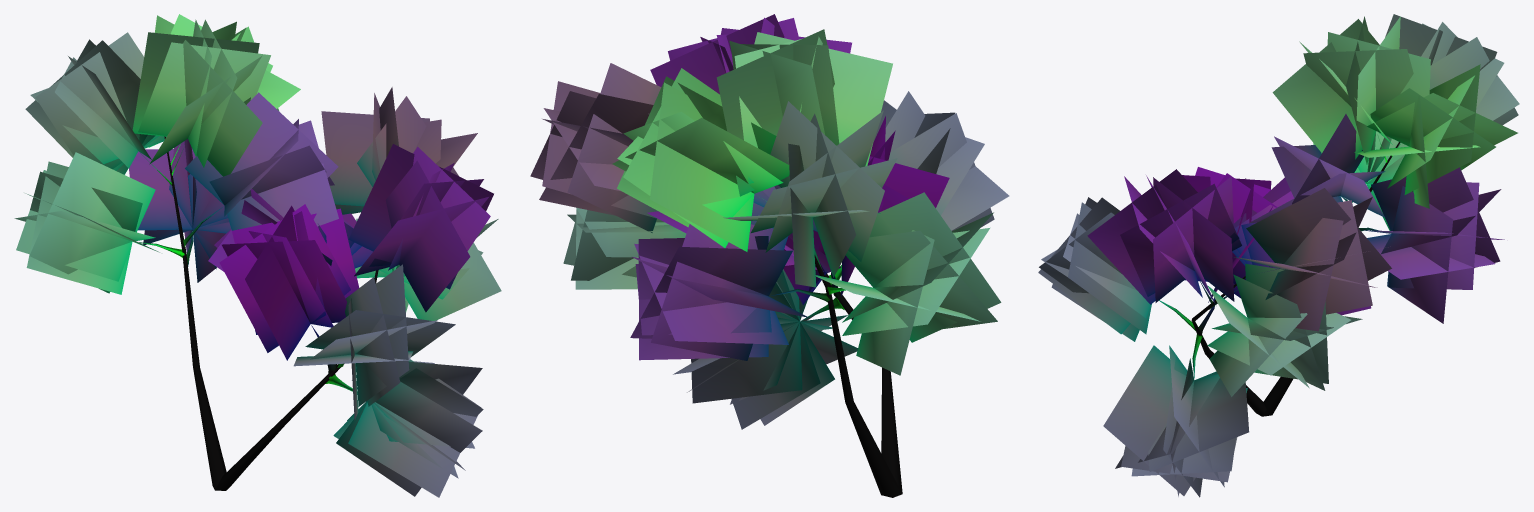
File: URP_P6_Tree_6_LOD_3.fbx
The picture shows the model from 3 angles, left to right: view 1: azimuth 30°, elevation 25°; view 2: azimuth 150°, elevation 25°; view 3: azimuth 270°, elevation 25°; orthographic projection. The views are drawn at different scales.
Visible parts, largest first — view 1: Tree_6_LOD_3; view 2: Tree_6_LOD_3; view 3: Tree_6_LOD_3.
Boxes of the visible parts, bbox=[...] form: Tree_6_LOD_3: bbox=[14, 14, 501, 497]; Tree_6_LOD_3: bbox=[530, 14, 1009, 497]; Tree_6_LOD_3: bbox=[1038, 14, 1519, 497].
Bounding box in the file's own units: 666 × 652 × 690.
